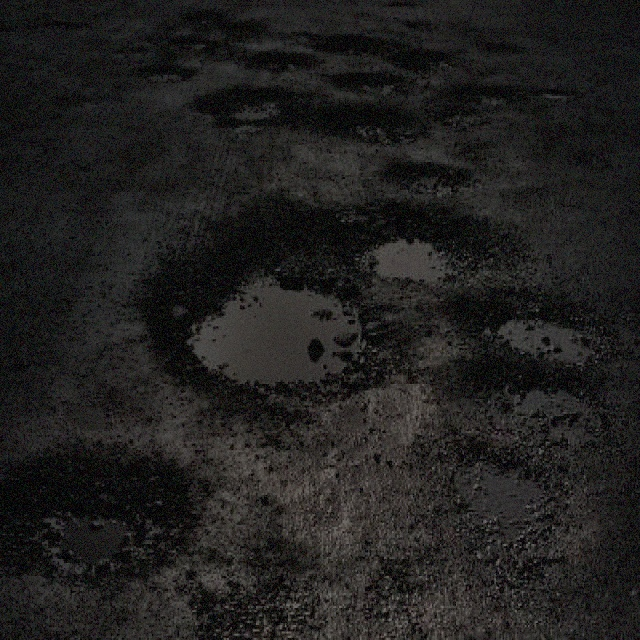pothole: (140, 209, 390, 405), (0, 448, 195, 585), (438, 438, 578, 600), (451, 363, 611, 448), (360, 202, 528, 282), (450, 290, 610, 369), (312, 100, 424, 150), (429, 73, 517, 130), (187, 83, 298, 128), (376, 158, 475, 194), (388, 45, 454, 77), (244, 47, 318, 75), (314, 32, 388, 58), (139, 62, 194, 83), (224, 17, 262, 34), (180, 8, 218, 22), (166, 34, 206, 47)
